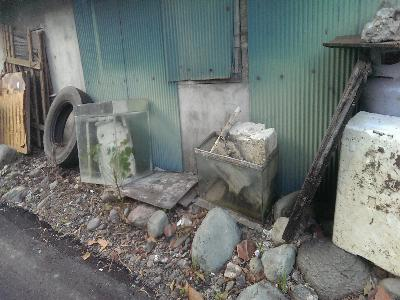aquarium: (194, 130, 280, 232), (75, 95, 156, 186)
styrofoam: (332, 109, 400, 281)
tire: (42, 85, 93, 169)
